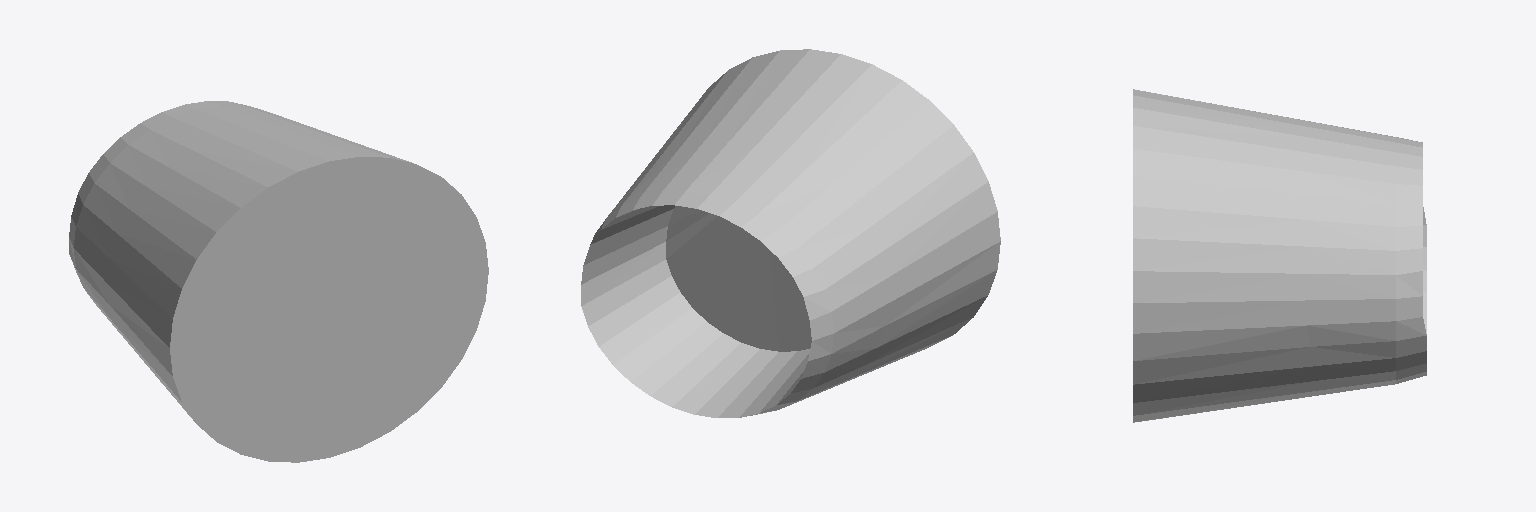
The model's file is right_thruster.obj.
The picture shows the model from 3 angles: view 1: azimuth 30°, elevation 25°; view 2: azimuth 150°, elevation 25°; view 3: azimuth 270°, elevation 25°; orthographic projection.
Parts seen in each view (by area): view 1: Right_Thruster_Body, Right_Thruster_Body_Exhaust, Right_Thruster_Body_Ex2; view 2: Right_Thruster_Body_Exhaust, Right_Thruster_Body_Ex2, Right_Thruster_Body; view 3: Right_Thruster_Body_Exhaust, Right_Thruster_Body_Ex2.
Part boxes in pixels (x1,y1,x2,y2): Right_Thruster_Body: (170, 157, 488, 462); Right_Thruster_Body_Exhaust: (69, 101, 413, 421); Right_Thruster_Body_Ex2: (74, 106, 315, 337); Right_Thruster_Body_Exhaust: (581, 49, 1000, 417); Right_Thruster_Body_Ex2: (608, 143, 890, 407); Right_Thruster_Body: (666, 206, 811, 351); Right_Thruster_Body_Exhaust: (1133, 89, 1426, 422); Right_Thruster_Body_Ex2: (1307, 121, 1395, 394).
Size of the model in its own units: 1.18 by 1.05 by 0.9373.